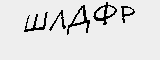Г: (100, 15, 118, 38)
Н: (83, 19, 100, 37)
П: (19, 23, 42, 41)
Ф: (63, 20, 82, 38)
Э: (118, 12, 138, 40)
Ұ: (44, 22, 61, 41)
